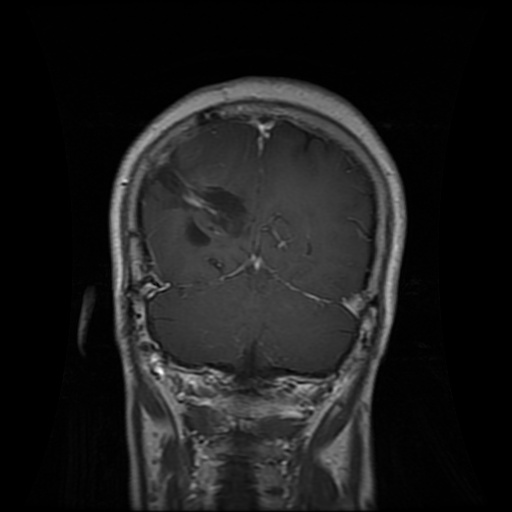glioma: (157, 151, 246, 246)
